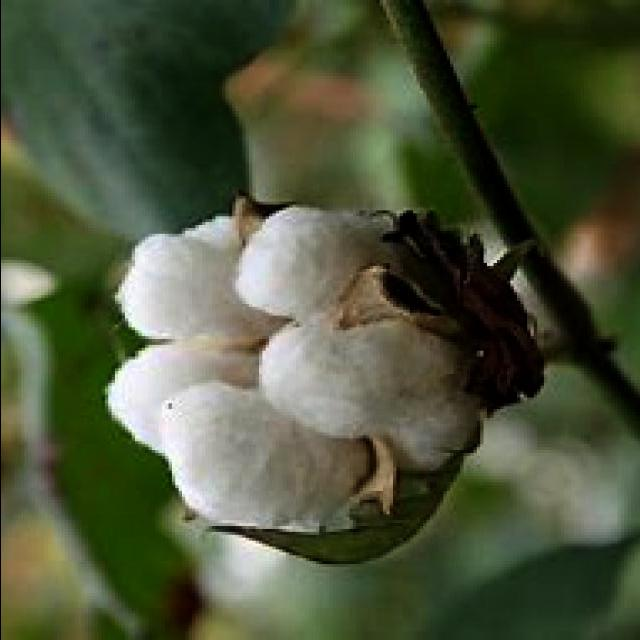Matured Cotton Boll: (97, 200, 493, 541)
